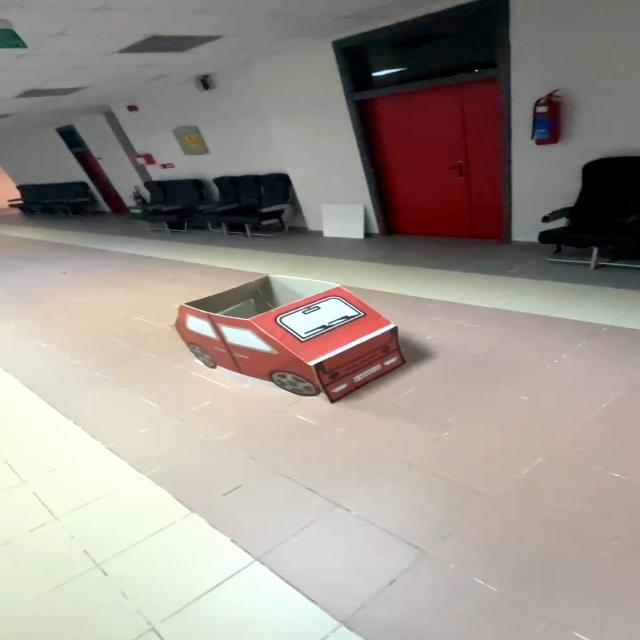red_car: (155, 254, 432, 434)
